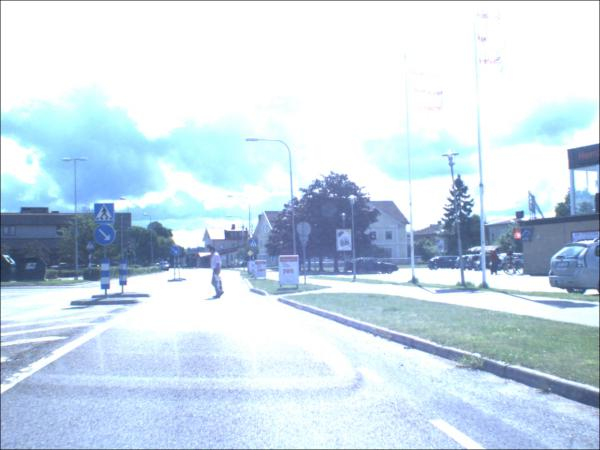PASS_RIGHT_SIDE: (96, 226, 117, 248), (172, 247, 182, 258)
PEDESTRIAN_CROSSING: (95, 204, 116, 225), (87, 242, 97, 252), (252, 242, 261, 250)
PRIORITY_ROAD: (248, 251, 255, 258)
